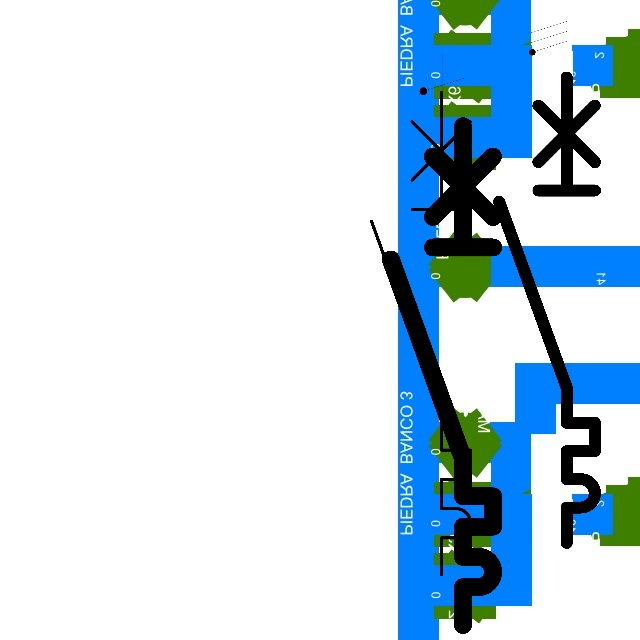interruptor_termomagnetico: (378, 113, 506, 637), (359, 80, 483, 587), (487, 65, 607, 554)
